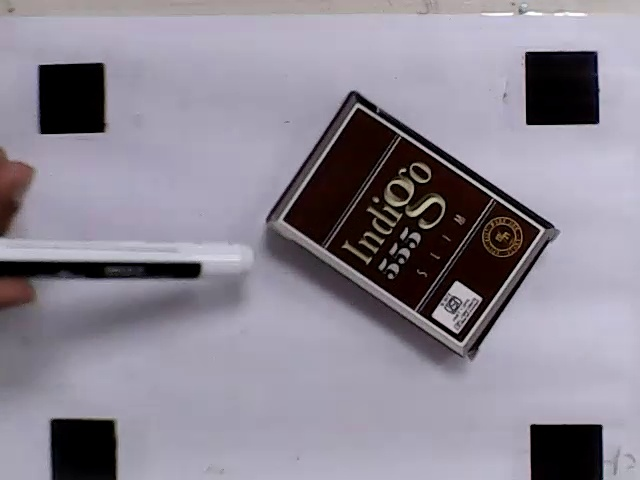BEX: (281, 105, 542, 345)
